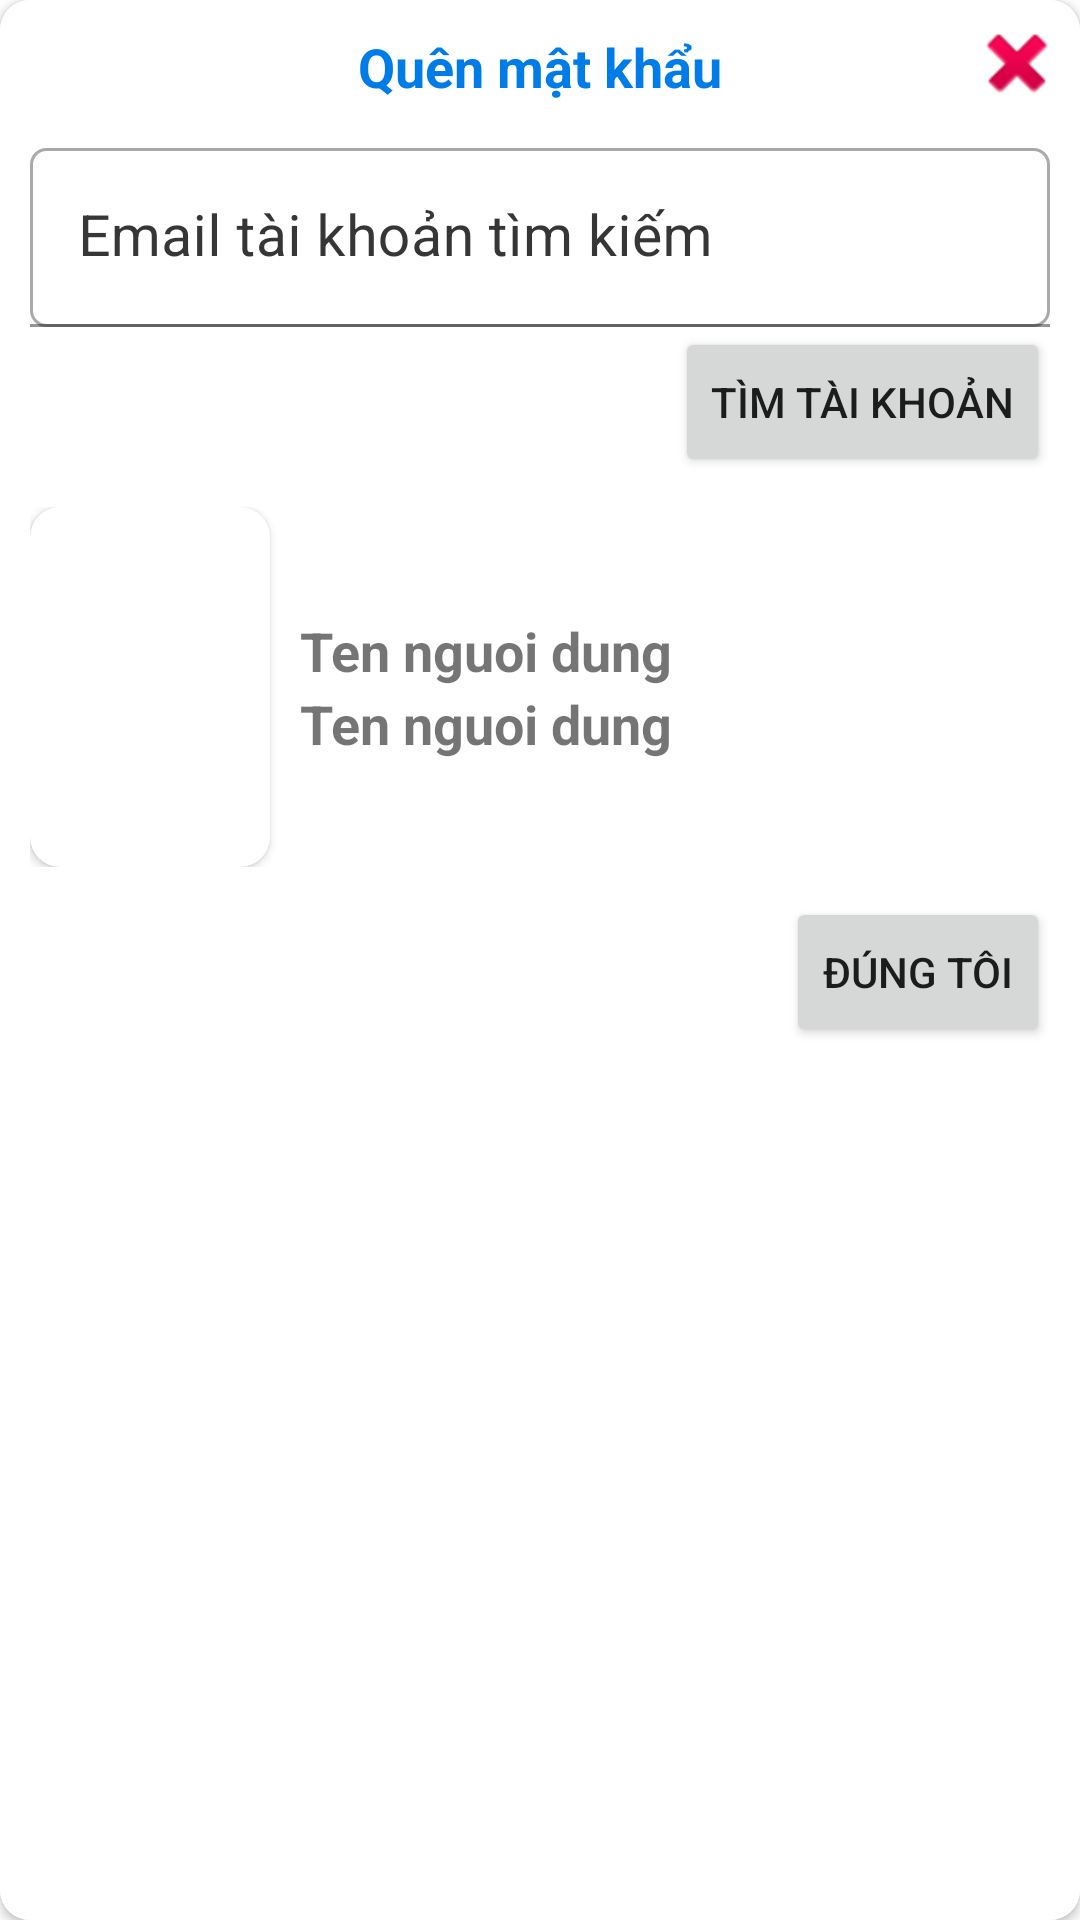

Where to tap for icons on this 1080 x 1920 app screen, as [x,y]:
delete: [1017,63]
